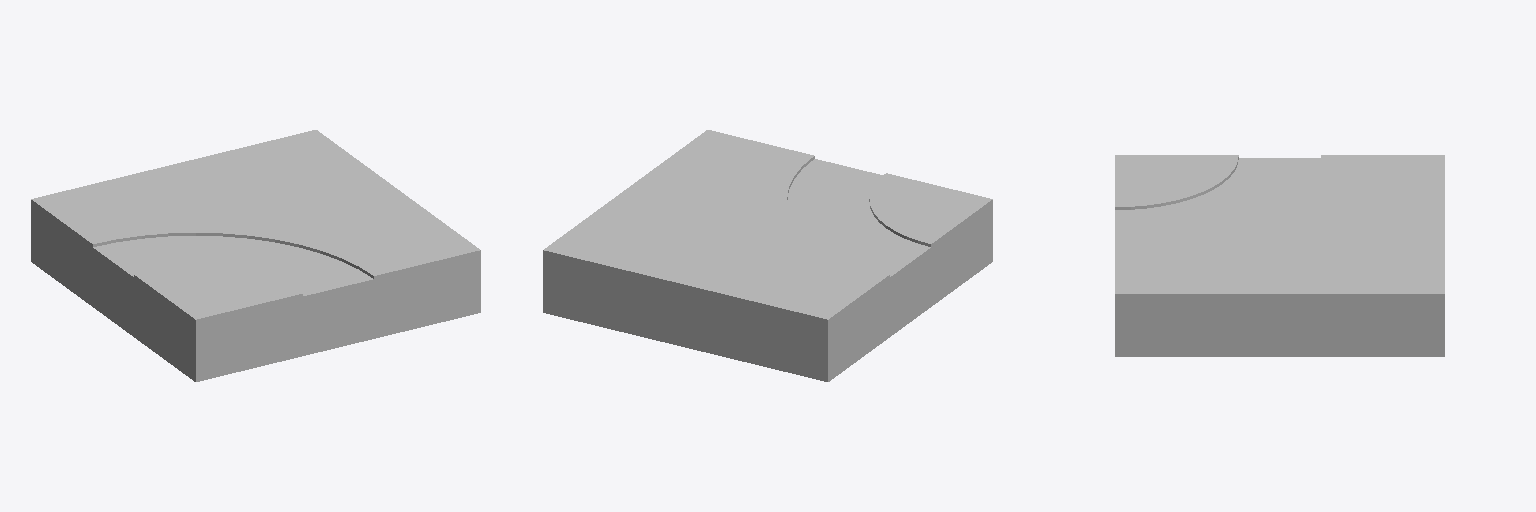
The model's file is tile001.obj.
The picture shows the model from 3 angles: view 1: azimuth 30°, elevation 25°; view 2: azimuth 150°, elevation 25°; view 3: azimuth 270°, elevation 25°; orthographic projection.
Visible parts, largest first — view 1: tile001; view 2: tile001; view 3: tile001.
Part boxes in pixels (x1,y1,x2,y2): tile001: (31, 130, 480, 381); tile001: (543, 130, 992, 381); tile001: (1115, 155, 1444, 356).
Size of the model in its own units: 1 by 0.21 by 1.